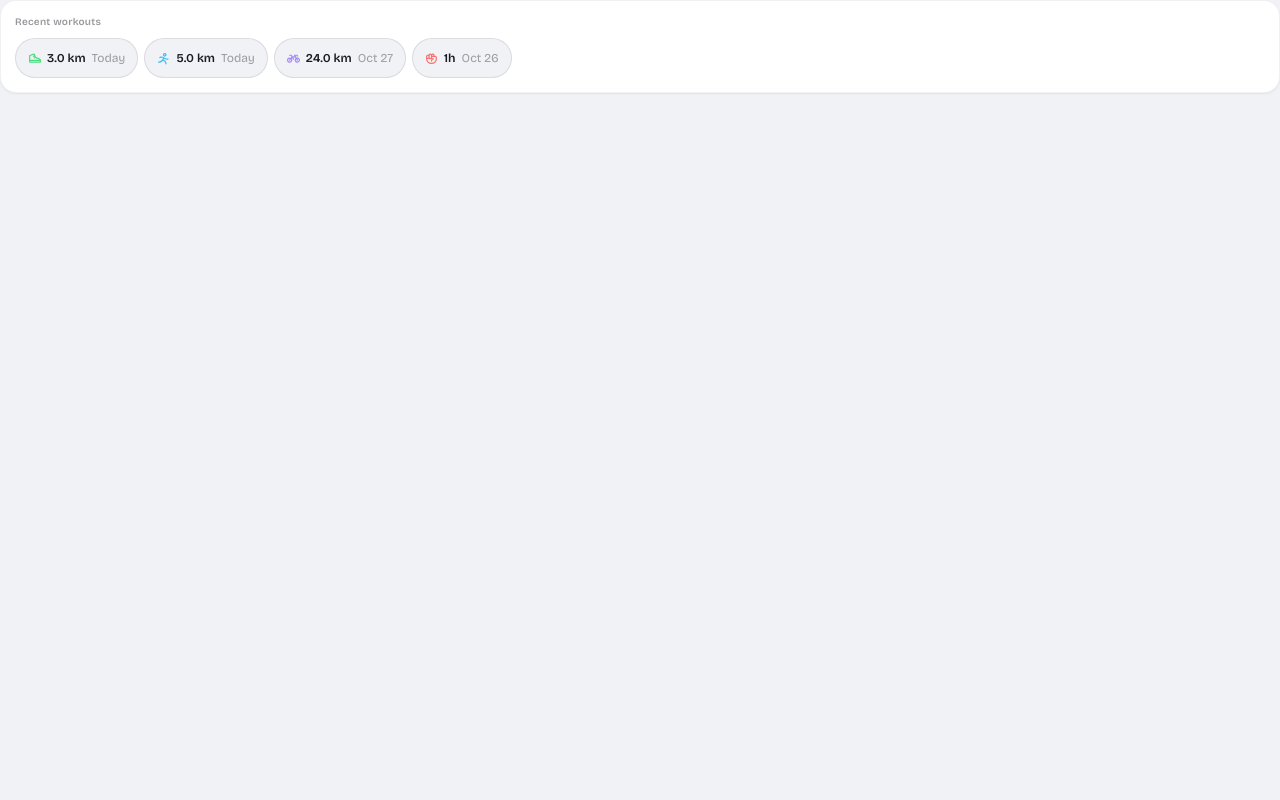
Test: RecentWorkouts › opens the actions sheet for the tapped tag
This screenshot has width=1280, height=800.
Click the button with aria-label "Runs Today: edit or delete" at (206,58), box [144,38,268,78]
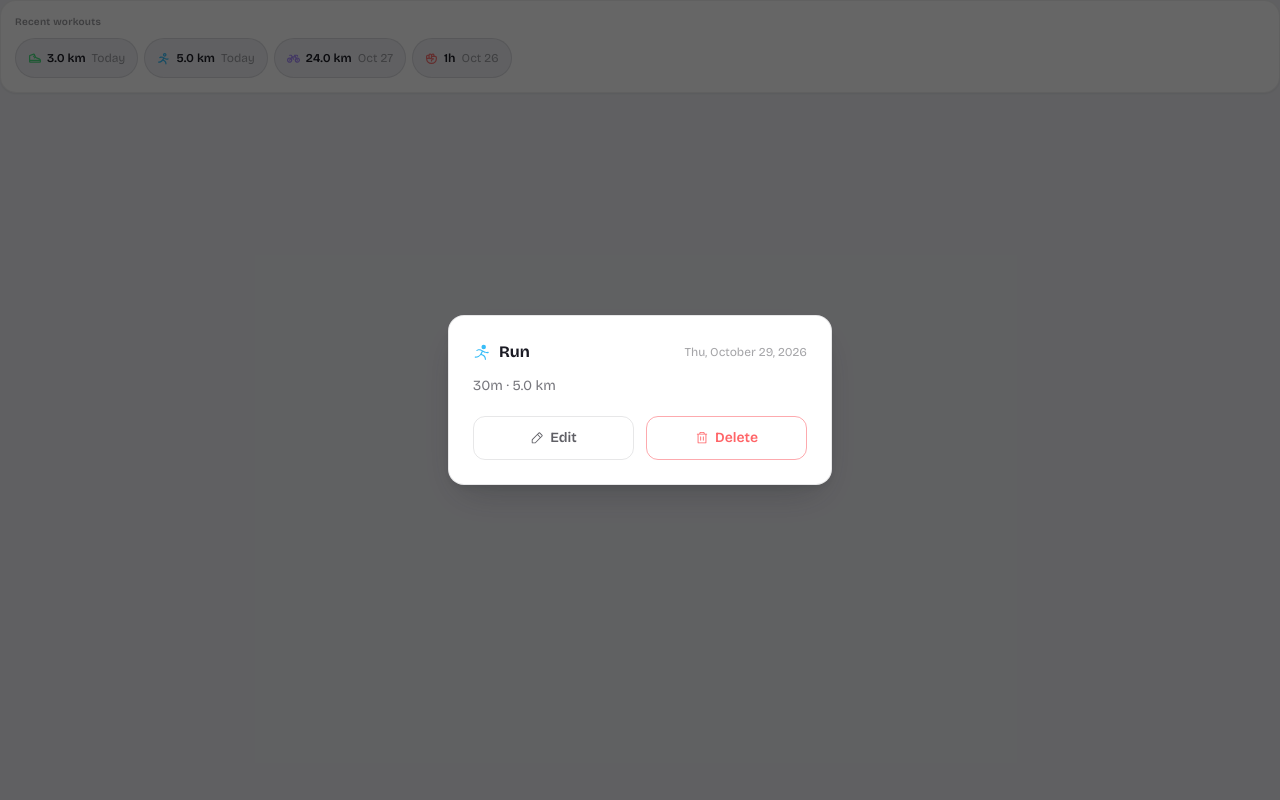
Now the dialog named "Run actions" is shown, box [448,315,832,485]
Now the text "30m · 5.0 km" is shown, box [473,377,556,394]
Now the button "Edit" is shown, box [473,416,634,460]
